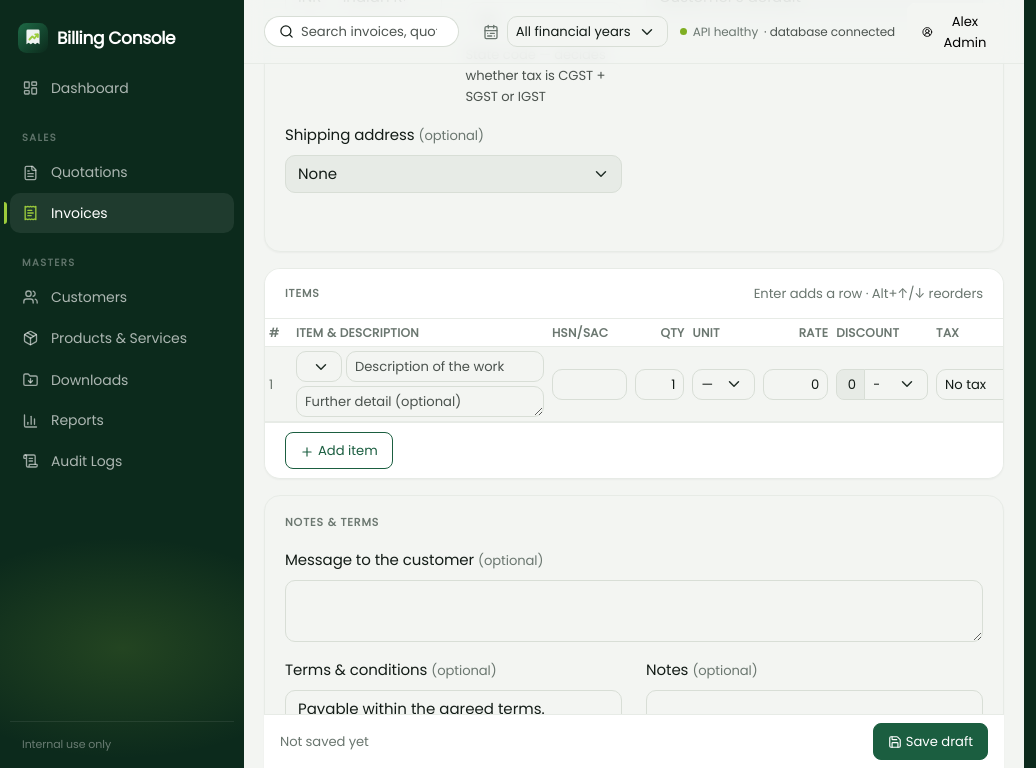
Scenario: the invoice editor › runs the same engine the quotation editor does
This screenshot has width=1036, height=768.
(page scrolled)
Replace the text in the field named "Quantity, line 1" with "2" at (660, 384), box [635, 369, 684, 400]
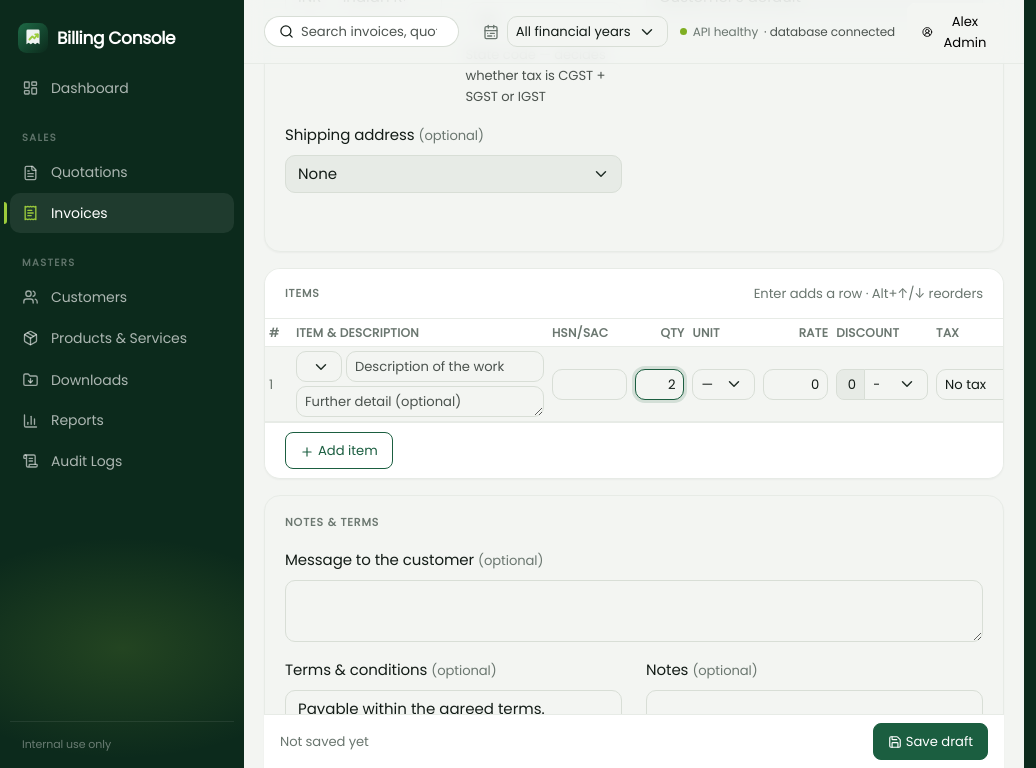
Replace the text in the field named "Rate, line 1" with "5000" at (796, 384), box [763, 369, 828, 400]
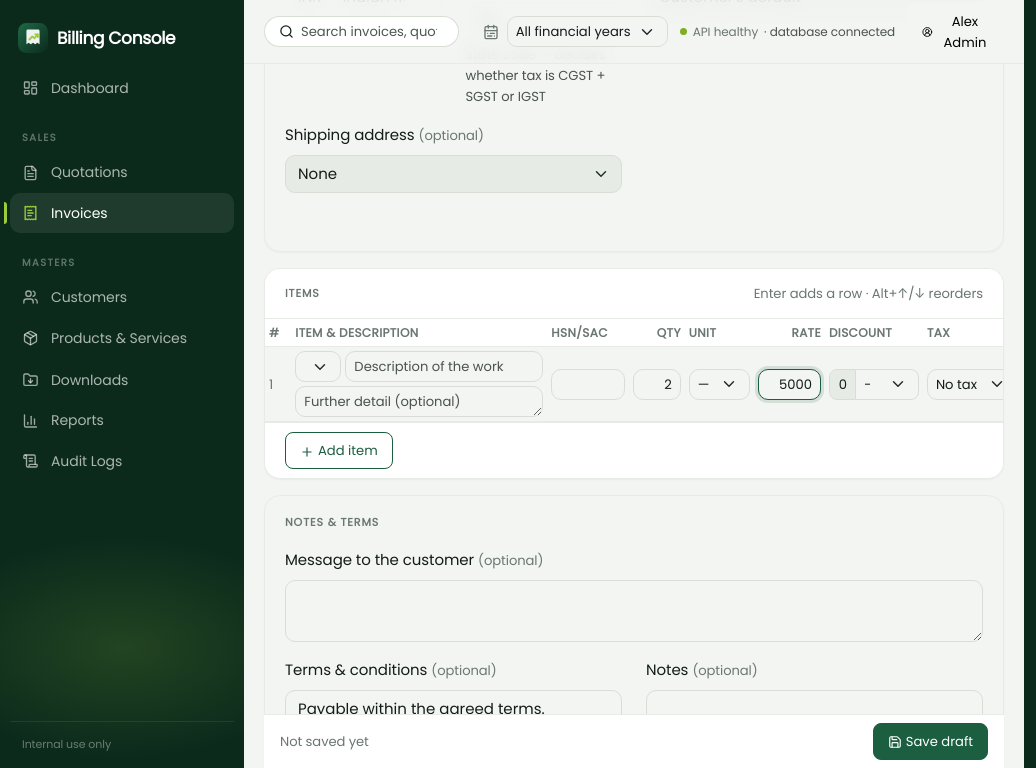
Select "GST 18%" in the dropdown named "Tax, line 1" at (972, 384), box [927, 369, 1018, 400]
(page scrolled)
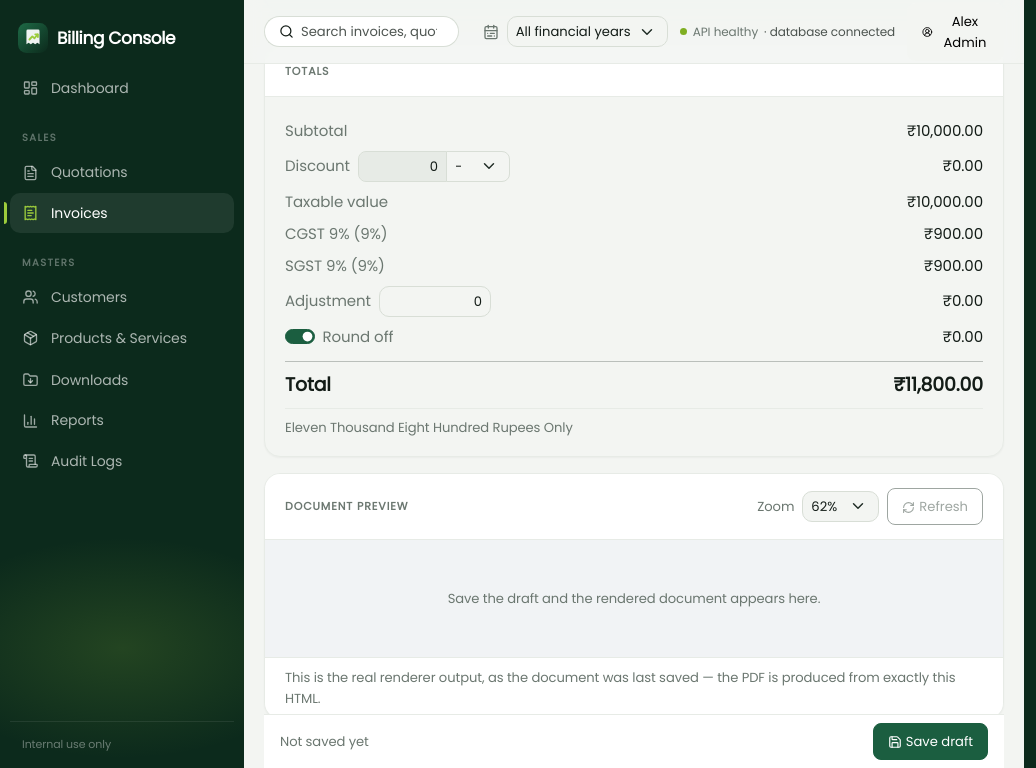
Expected: the text "₹11,800.00" is shown, [893, 370, 983, 400]
Expected: the text "₹900.00" is shown 2 times, [924, 222, 983, 246]; [924, 254, 983, 278]
